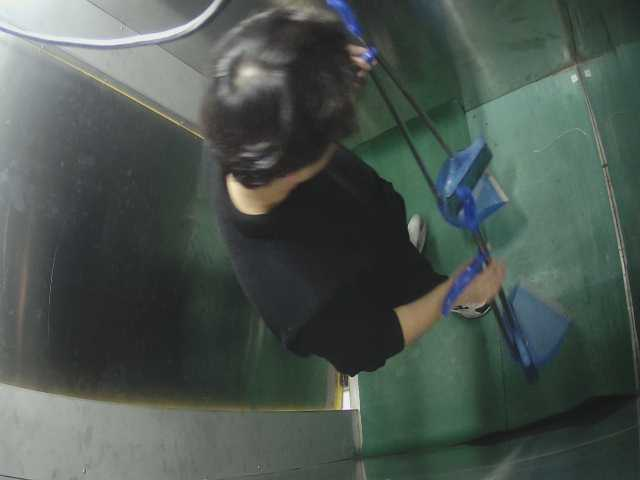broom: (326, 4, 531, 233), (430, 192, 586, 389)
person: (167, 12, 493, 380)
